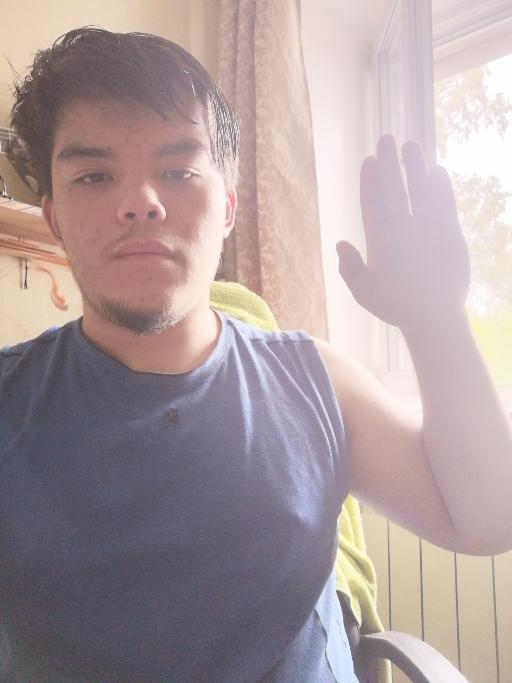stop: (329, 130, 478, 334)
